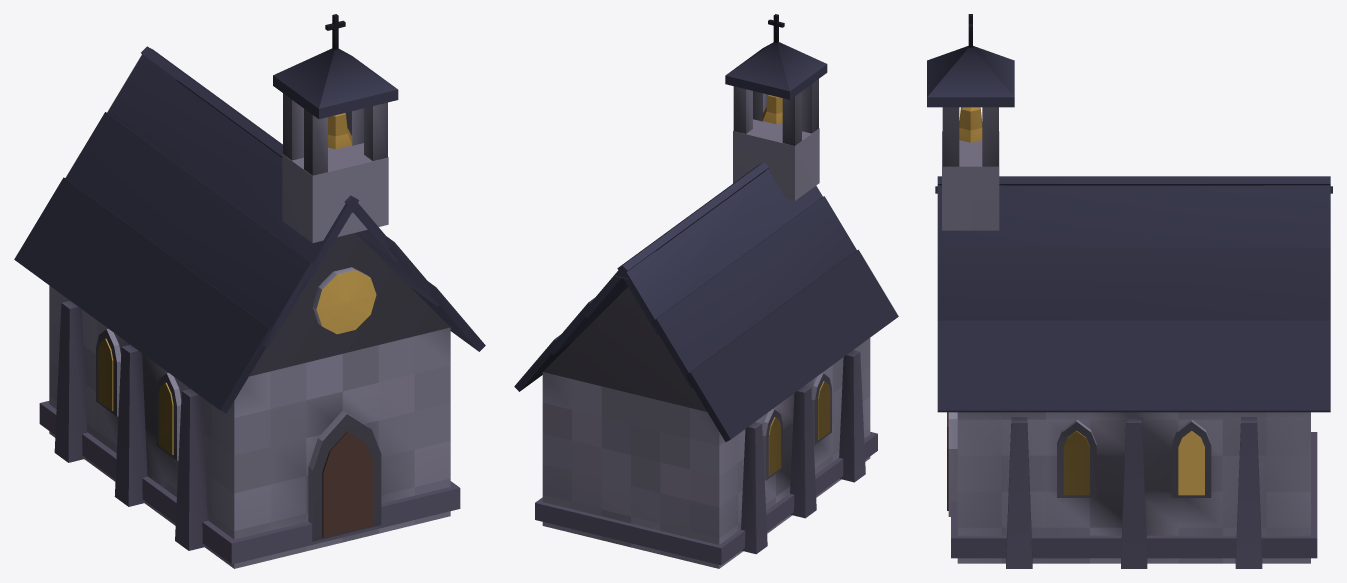
File: HauntedChapel.fbx
The picture shows the model from 3 angles, left to right: view 1: azimuth 30°, elevation 25°; view 2: azimuth 150°, elevation 25°; view 3: azimuth 270°, elevation 25°; orthographic projection. The views are drawn at different scales.
Visible parts, largest first — view 1: HauntedChapel; view 2: HauntedChapel; view 3: HauntedChapel.
Part boxes in pixels (x1,y1,x2,y2): HauntedChapel: [14, 14, 485, 568]; HauntedChapel: [514, 14, 898, 568]; HauntedChapel: [927, 14, 1332, 568].
Bounding box in the file's own units: 6.63 × 12.45 × 9.19.
